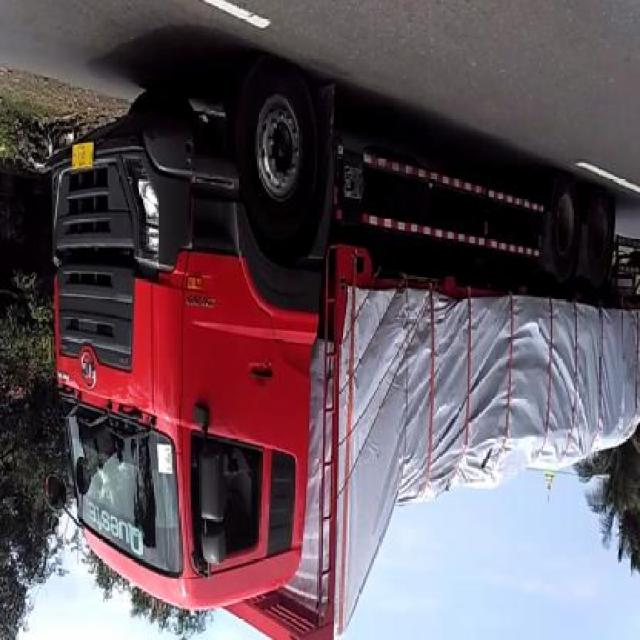truck: (47, 58, 640, 640)
